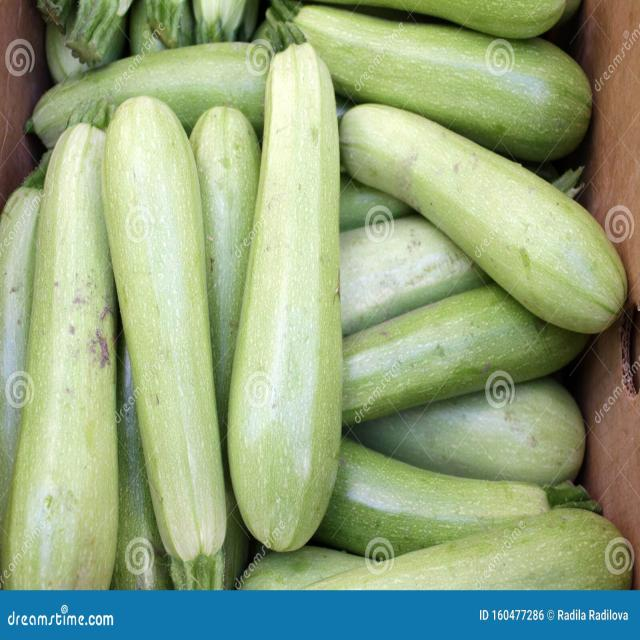Zucchini: (235, 27, 344, 553)
